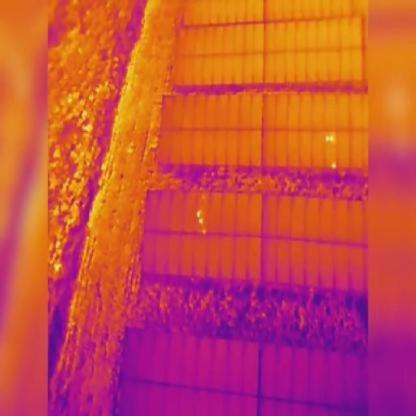anomaly: (324, 134, 336, 144), (196, 211, 204, 225), (331, 162, 337, 169)
